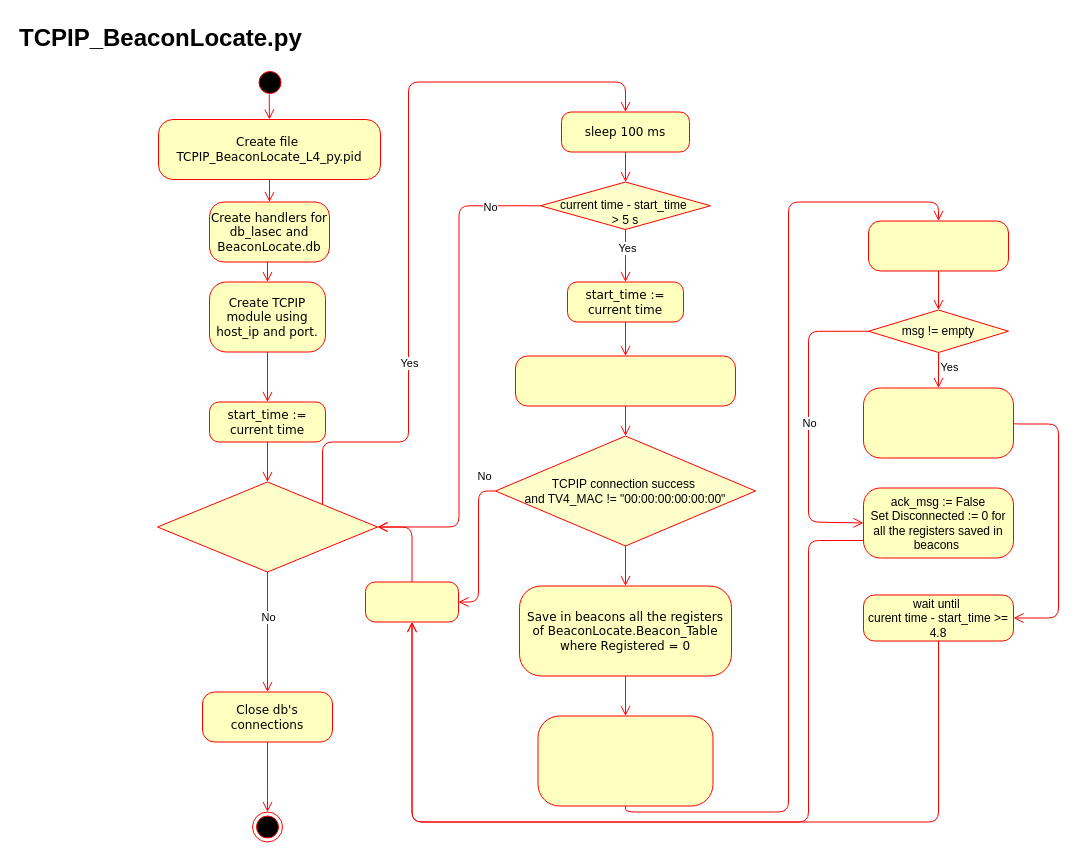
Some shapes in this 1086 by 859 pixel diagram are drawn without their labels. Each missing label, with the box of its shape:
ack_msg := True Set Registered := 1 for all the registers saved in beacons: (862, 387, 1014, 458)
Close TCPIP connection.: (364, 581, 458, 622)
Does TCPIP_ BeaconLocate_L4_py .pid exist ?: (156, 481, 378, 572)
For every msj in msjs, create an HE; frame and send it to the server: (537, 715, 713, 806)
Get MAC from db_lasec.WIFI_connection_Table and save it in TV4_MAC: (514, 355, 736, 406)
Wait for server answer and save it in msg: (868, 220, 1008, 271)
